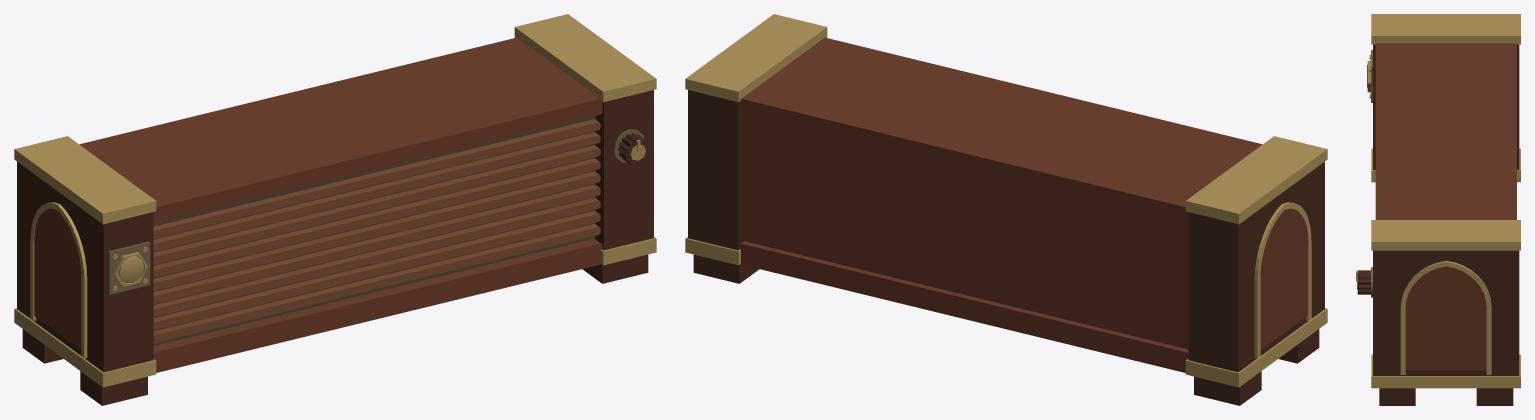
Rendered from AA-large.glb.
3 renders of one model, left to right at view 1: azimuth 30°, elevation 25°; view 2: azimuth 150°, elevation 25°; view 3: azimuth 270°, elevation 25°, orthographic. The views are drawn at different scales.
Visible parts, largest first — view 1: Top board, Base rail, End block left, Burlap speaker cloth, End block right, Brass top cap left, Brass top cap right, Slat 8, Slat 4, Slat 6, Slat 9, Slat 1 (+13 smaller); view 2: Speaker box, Top board, End block left, Base rail, End block right, Brass top cap left, Brass top cap right, End panel inset left, Brass foot band left, End panel brass frame left, Bracket foot 3, Bracket foot 4 (+2 smaller); view 3: Top board, End block right, End panel inset right, Brass top cap right, Brass top cap left, Brass foot band right, End panel brass frame right, End block left, Bracket foot 4, Bracket foot 2, Volume — knob, Brass foot band left.
Boxes of the visible parts, x1,y1,x2,y2 form: Top board: (79,37,602,223); Base rail: (153,238,602,372); End block left: (17,162,153,372); Burlap speaker cloth: (153,116,595,345); End block right: (595,90,653,250); Brass top cap left: (14,136,156,224); Brass top cap right: (514,14,656,102); Slat 8: (153,132,600,251); Slat 4: (153,184,600,303); Slat 6: (153,158,600,277); Slat 9: (153,119,600,238); Slat 1: (153,224,600,343); Speaker box: (743,115,1188,349); Top board: (739,37,1262,223); End block left: (1188,162,1324,372); Base rail: (739,241,1188,372); End block right: (688,90,742,250); Brass top cap left: (1185,136,1327,224); Brass top cap right: (685,14,827,102); End panel inset left: (1260,208,1307,349); Brass foot band left: (1185,308,1327,387); End panel brass frame left: (1254,202,1311,358); Bracket foot 3: (1194,371,1261,405); Bracket foot 4: (693,254,759,283); Top board: (1375,43,1516,219); End block right: (1373,250,1519,375); End panel inset right: (1405,266,1486,370); Brass top cap right: (1371,220,1520,250); Brass top cap left: (1371,14,1520,44); Brass foot band right: (1371,354,1520,388); End panel brass frame right: (1400,260,1491,374); End block left: (1373,44,1519,169); Bracket foot 4: (1476,388,1513,405); Bracket foot 2: (1379,388,1415,405); Volume — knob: (1357,270,1370,294); Brass foot band left: (1371,148,1520,182).
Bounding box in the file's own units: 0.667 × 0.225 × 0.203.
